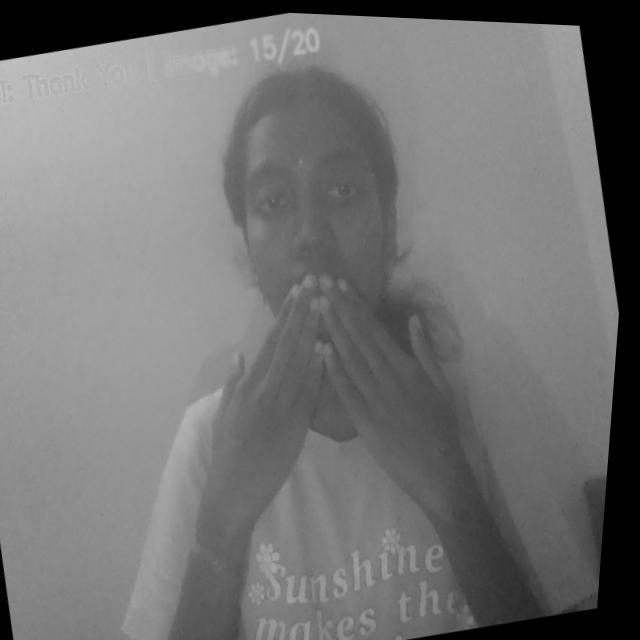Thank You: (144, 222, 535, 614)
